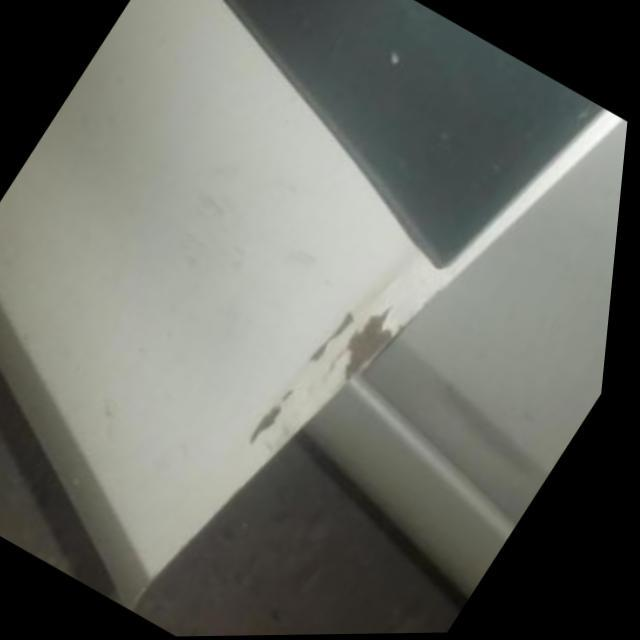crack: (349, 305, 402, 392), (253, 388, 303, 453), (313, 308, 363, 371)
